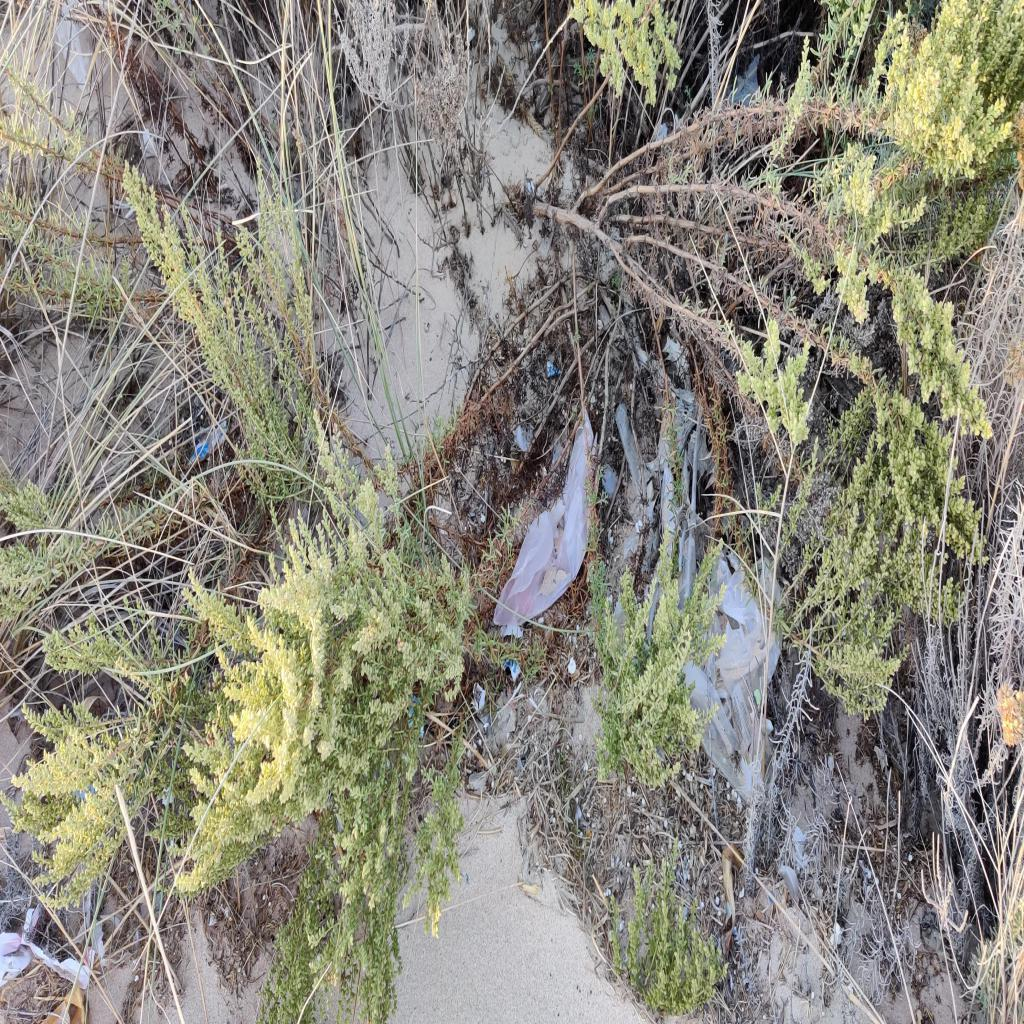Plastic film: (2, 904, 96, 990), (55, 0, 117, 94), (615, 403, 651, 499), (473, 680, 486, 712), (546, 362, 562, 376)
Unlabeled litter: (678, 532, 784, 804), (494, 406, 598, 626), (192, 420, 227, 464), (500, 655, 520, 683), (142, 129, 156, 157)
